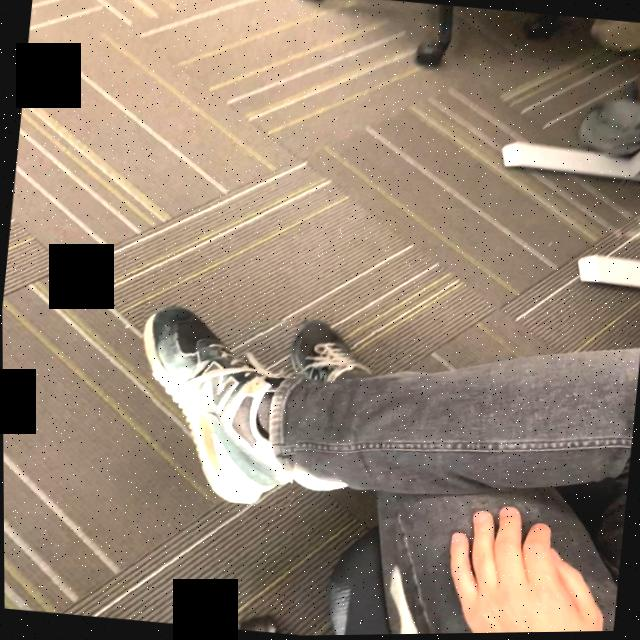shoe: (141, 308, 304, 505), (295, 321, 373, 387)
